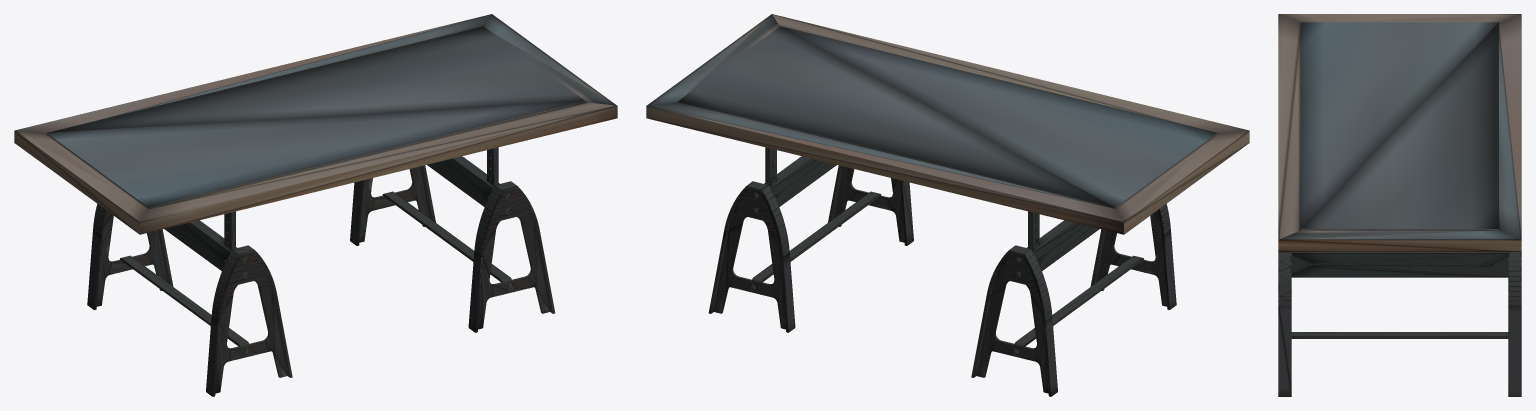
The picture shows the model from 3 angles, left to right: view 1: azimuth 30°, elevation 25°; view 2: azimuth 150°, elevation 25°; view 3: azimuth 270°, elevation 25°; orthographic projection. The views are drawn at different scales.
Parts seen in each view (by area): view 1: world; view 2: world; view 3: world.
Part boxes in pixels (x1,y1,x2,y2): world: (14, 14, 617, 396); world: (646, 14, 1249, 396); world: (1278, 14, 1521, 396).
Bounding box in the file's own units: 1.72 × 0.6662 × 0.7822.
1 material, 1 textured.
